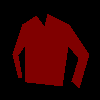abbigliamento_uomo: (12, 13, 89, 88)
